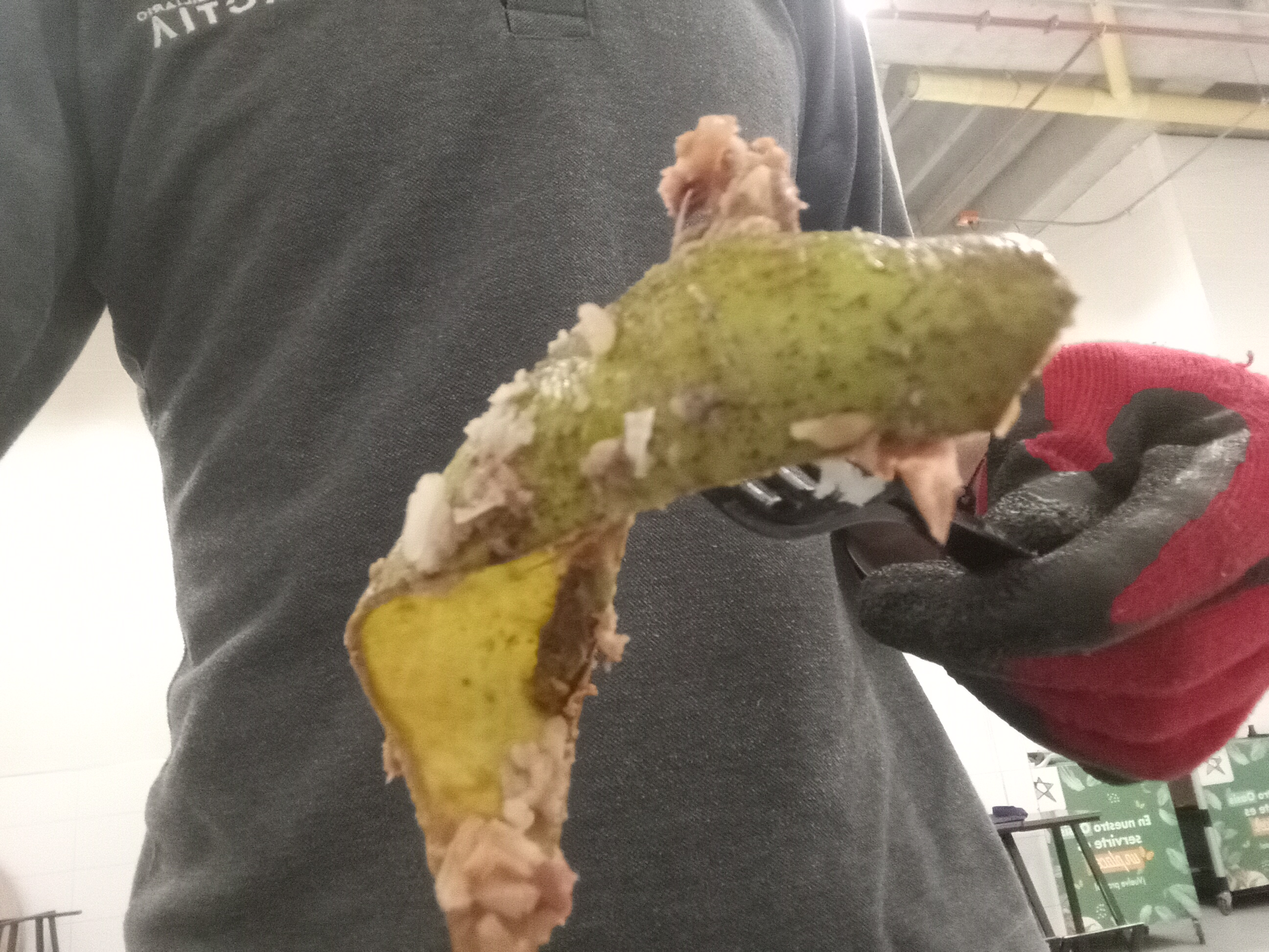Organico: (344, 108, 1078, 952)
